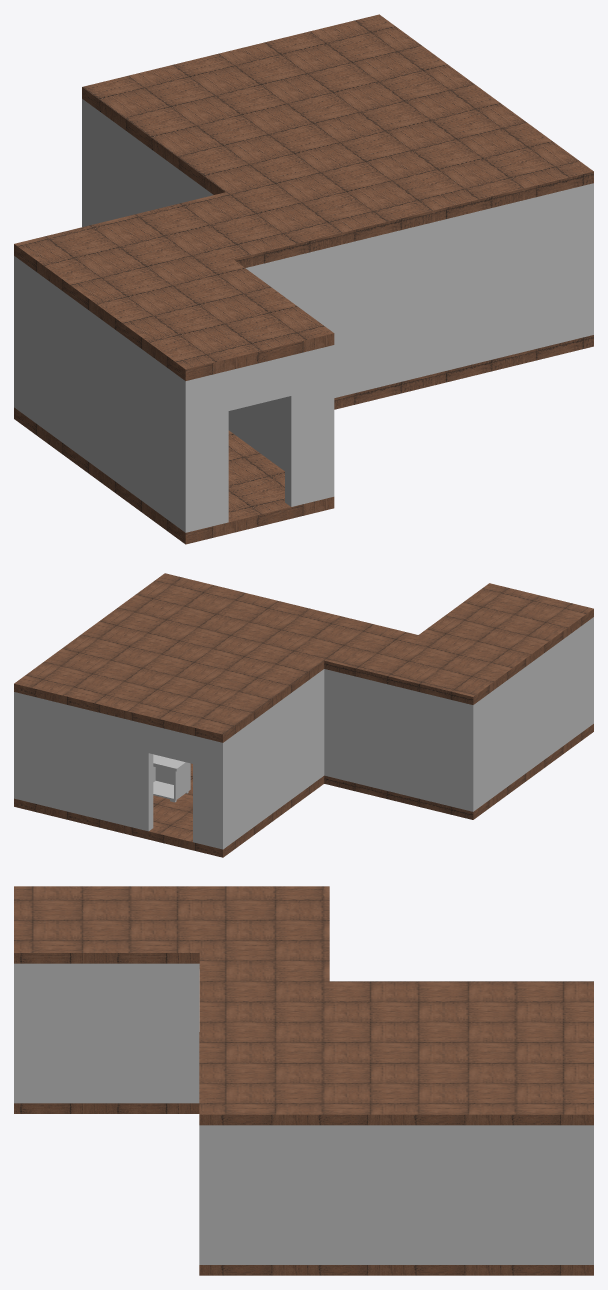
File: RoomWithACashRegister.fbx
3 views of the same model, one above another, from view 1: azimuth 30°, elevation 25°; view 2: azimuth 150°, elevation 25°; view 3: azimuth 270°, elevation 25° (orthographic). The views are drawn at different scales.
Parts seen in each view (by area): view 1: Roof, Wall_4m.006, Wall_4m.001, Floor, Wall_3m.001, Wall_3m, Corner_wall, Corner_wall.001, Corner_wall.005, Wall_4m.004, Wall_door, Corner_wall.002 (+2 smaller); view 2: Roof, Wall_4m, Wall_4m.005, Floor, Wall_4m.004, Wall_3m, Wall_3m.001, Corner_wall.006, Corner_wall.002, Corner_wall.004, Corner_wall.007, Wall_door.001 (+3 smaller); view 3: Roof, Wall_4m.003, Wall_4m.002, Wall_3m.002, Floor, Corner_wall.001, Corner_wall.005, Corner_wall.007, Corner_wall.003.
Part boxes in pixels (x1,y1,x2,y2): Roof: (14,14,593,380); Wall_4m.006: (408,192,556,379); Wall_4m.001: (259,228,407,397); Floor: (14,335,593,544); Wall_3m.001: (35,271,99,469); Wall_3m: (100,319,164,516); Corner_wall: (164,366,222,532); Corner_wall.001: (297,345,334,505); Corner_wall.005: (556,183,593,343); Wall_4m.004: (103,115,189,221); Wall_door: (223,354,297,523); Corner_wall.002: (14,256,35,422); Roof: (14,573,593,742); Wall_4m: (342,673,446,805); Wall_4m.005: (40,698,144,830); Floor: (14,724,593,857); Wall_4m.004: (238,688,298,837); Wall_3m: (533,628,578,767); Wall_3m.001: (488,661,533,800); Corner_wall.006: (197,732,238,849); Corner_wall.002: (447,694,488,811); Corner_wall.004: (313,669,342,782); Corner_wall.007: (14,692,39,804); Wall_door.001: (144,724,196,842); Roof: (14,886,593,1125); Wall_4m.003: (396,1125,554,1264); Wall_4m.002: (239,1125,396,1264); Wall_3m.002: (53,963,171,1103); Floor: (14,1103,593,1275); Corner_wall.001: (14,963,53,1103); Corner_wall.005: (199,1125,238,1264); Corner_wall.007: (554,1125,593,1264); Corner_wall.003: (171,963,199,1103).
Bounding box in the file's own units: 1370 × 450 × 1470.
